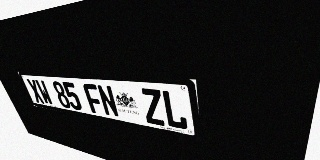5: (62, 82, 83, 111)
8: (51, 81, 72, 109)
F: (82, 83, 105, 115)
L: (161, 90, 188, 130)
N: (96, 84, 120, 118)
W: (34, 80, 54, 106)
X: (26, 79, 45, 104)
Z: (140, 88, 166, 126)
